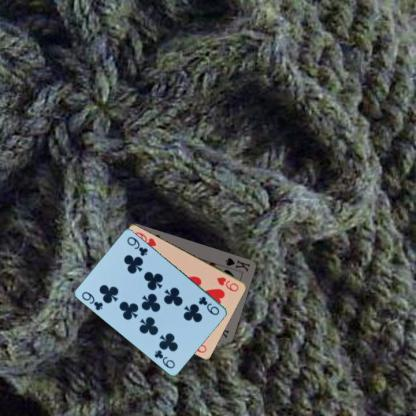9c: (80, 288, 104, 312), (196, 294, 221, 316)
9h: (214, 274, 240, 292)
Ks: (222, 255, 252, 273)
